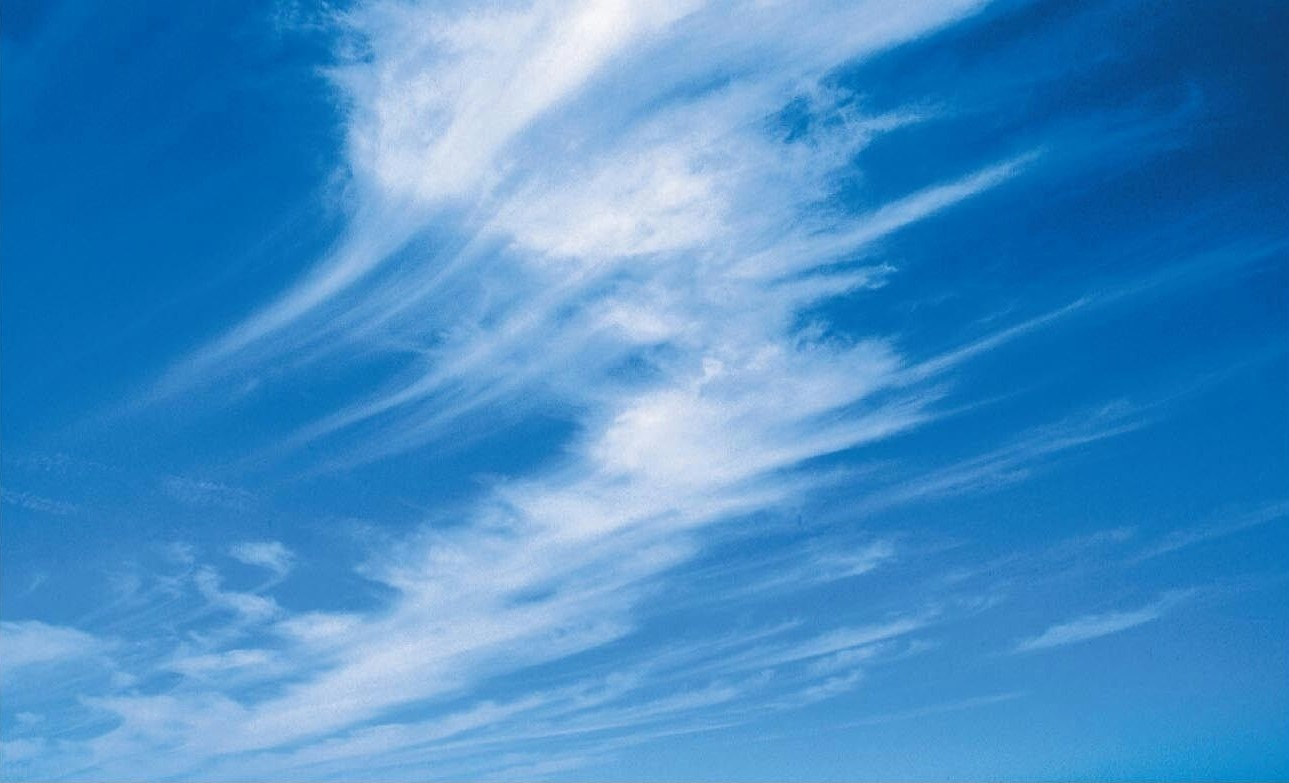Cirrus: (212, 5, 1020, 782)
